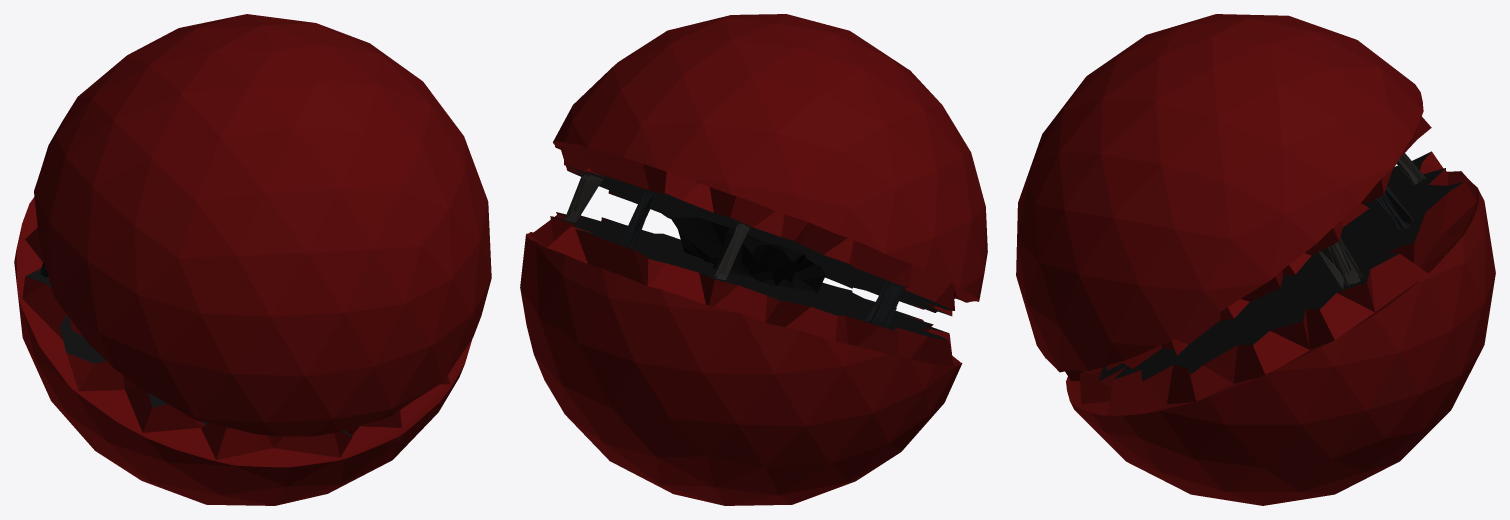
File: Planet12.glb
3 views of the same model, side by side, from view 1: azimuth 30°, elevation 25°; view 2: azimuth 150°, elevation 25°; view 3: azimuth 270°, elevation 25° (orthographic). The views are drawn at different scales.
Visible parts, largest first — view 1: Planet_12; view 2: Planet_12; view 3: Planet_12.
Boxes of the visible parts, x1,y1,x2,y2 form: Planet_12: [14, 14, 491, 505]; Planet_12: [520, 14, 987, 505]; Planet_12: [1016, 14, 1495, 505].
Bounding box in the file's own units: 3.89 × 4.15 × 4.02.
